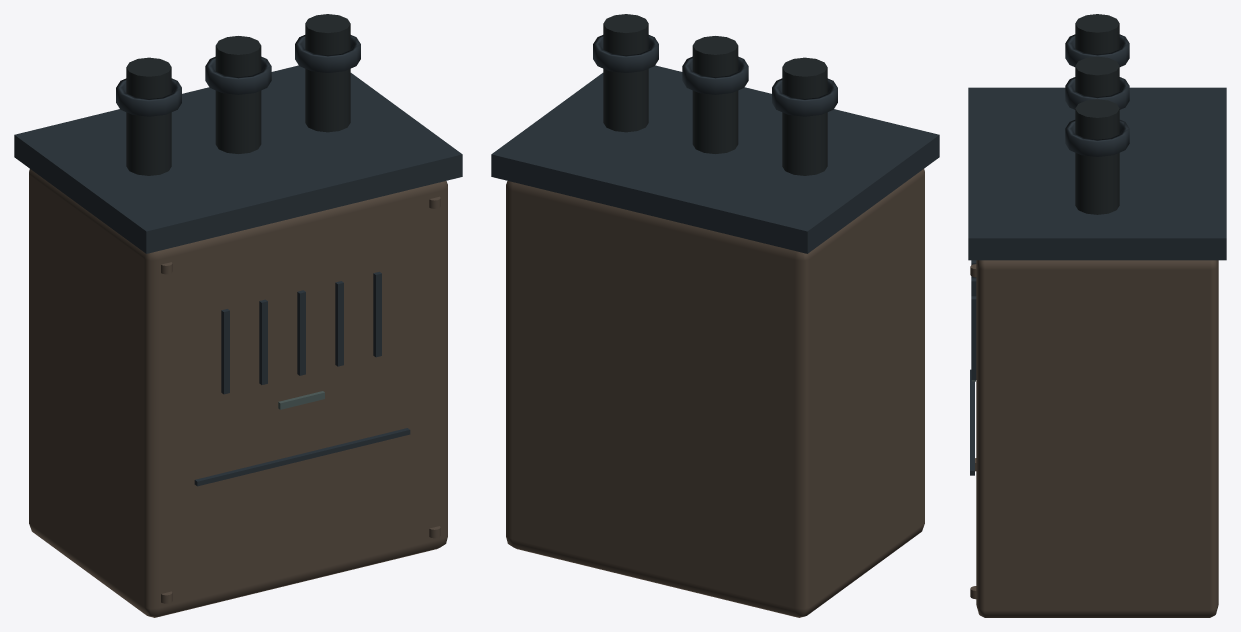
The model's file is transformer-3.glb.
3 renders of one model, left to right at view 1: azimuth 30°, elevation 25°; view 2: azimuth 150°, elevation 25°; view 3: azimuth 270°, elevation 25°, orthographic. The views are drawn at different scales.
Visible parts, largest first — view 1: transformer/2/KR-230-3; view 2: transformer/2/KR-230-3; view 3: transformer/2/KR-230-3.
Part boxes in pixels (x1,y1,x2,y2): transformer/2/KR-230-3: [14, 14, 462, 617]; transformer/2/KR-230-3: [491, 14, 939, 617]; transformer/2/KR-230-3: [968, 14, 1226, 617].
Size of the model in its own units: 1.77 by 2.65 by 1.28.
